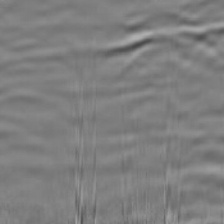cavities: (57, 41, 178, 176)
